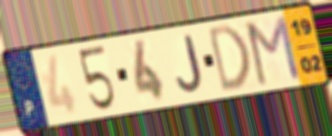4: (133, 36, 167, 104), (45, 51, 79, 118)
5: (75, 43, 117, 113)
D: (206, 22, 254, 96)
J: (175, 33, 205, 94)
M: (244, 13, 303, 88)
